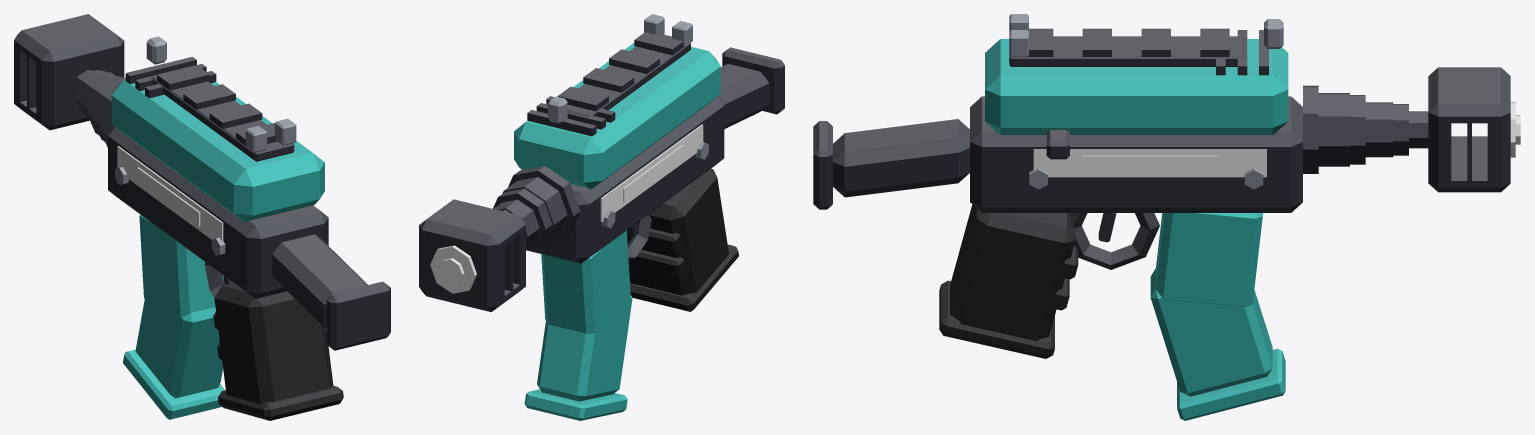
The model's file is Burst.fbx.
3 views of the same model, side by side, from view 1: azimuth 30°, elevation 25°; view 2: azimuth 150°, elevation 25°; view 3: azimuth 270°, elevation 25° (orthographic). The views are drawn at different scales.
Visible parts, largest first — view 1: Body, Halo_Glow, Accent_Glow; view 2: Body, Halo_Glow, Accent_Glow; view 3: Body, Halo_Glow, Accent_Glow.
Part boxes in pixels (<box>): Body: <box>14,14,390,420</box>; Halo_Glow: <box>117,146,223,241</box>; Accent_Glow: <box>137,167,200,226</box>; Body: <box>419,14,784,420</box>; Halo_Glow: <box>430,124,703,293</box>; Accent_Glow: <box>438,144,683,284</box>; Body: <box>813,14,1510,420</box>; Halo_Glow: <box>1033,102,1515,177</box>; Accent_Glow: <box>1081,115,1520,172</box>.
Bounding box in the file's own units: 0.745 × 2.17 × 3.61.
